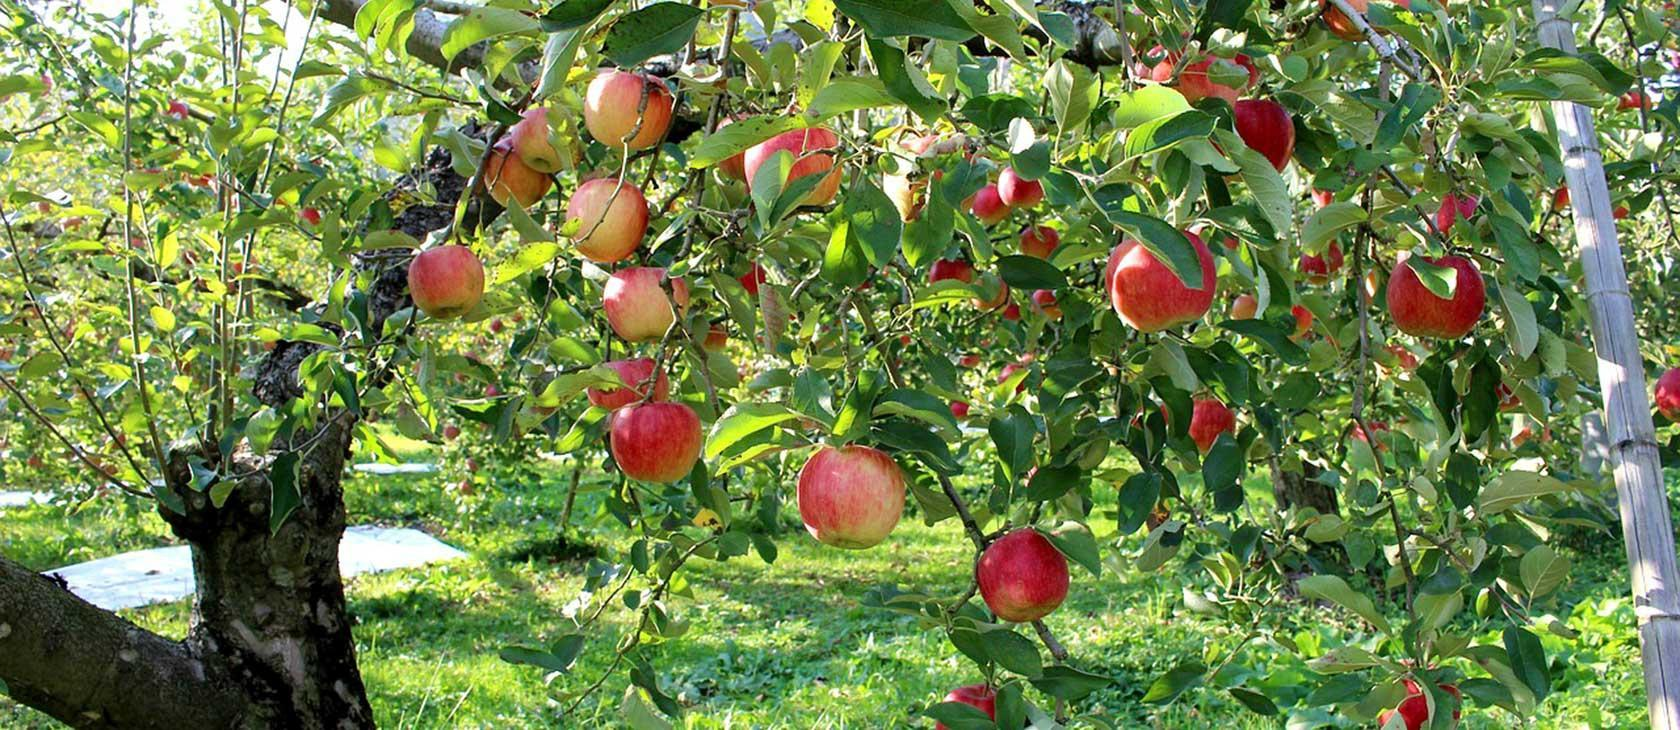apple: (796, 443, 909, 550), (1106, 225, 1217, 332), (976, 528, 1072, 621), (1389, 253, 1485, 340), (607, 398, 703, 483), (560, 173, 650, 263), (585, 65, 676, 152), (600, 262, 688, 346), (409, 243, 487, 315)
